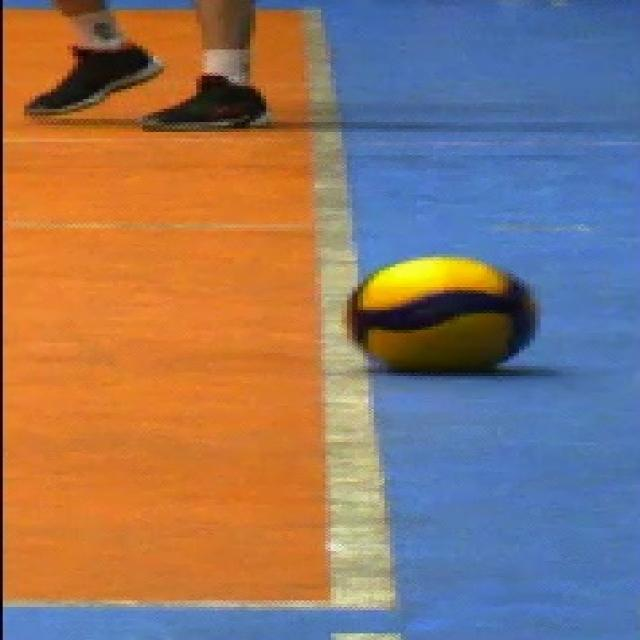Volleyball: (345, 252, 542, 374)
